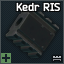PP-91 Kedr Rotor 43 RIS mount: (0, 0, 64, 64)
